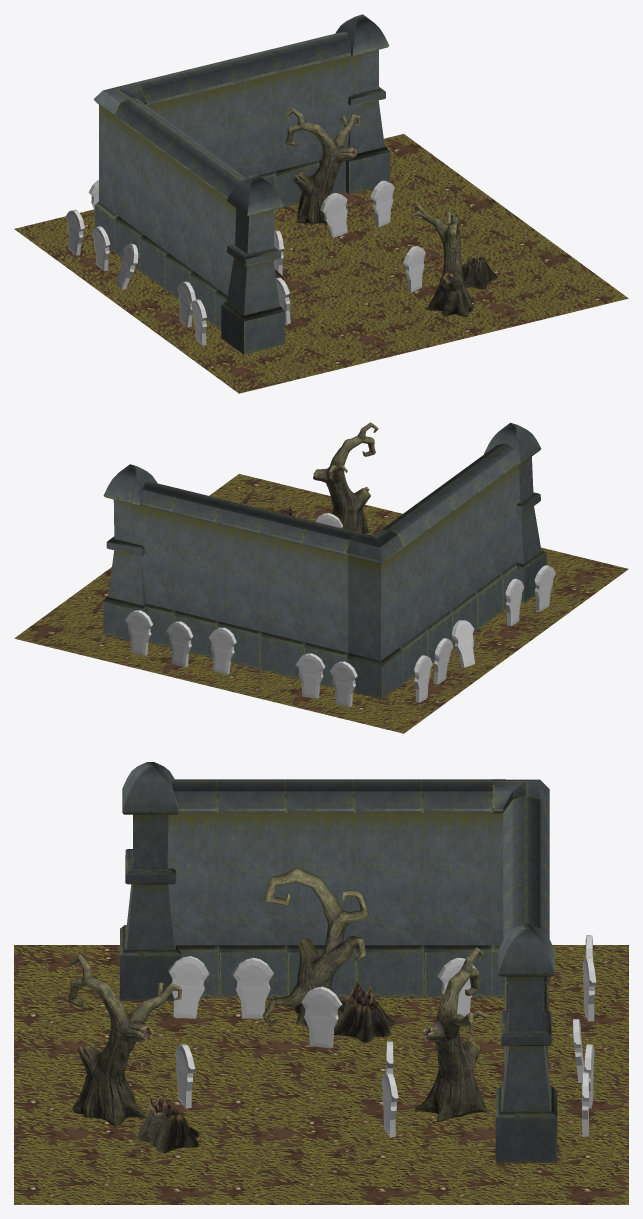
The model's file is Edge_Diorama_3.FBX.
The picture shows the model from 3 angles, top to bottom: view 1: azimuth 30°, elevation 25°; view 2: azimuth 150°, elevation 25°; view 3: azimuth 270°, elevation 25°; orthographic projection. The views are drawn at different scales.
Visible parts, largest first — view 1: Floor027; view 2: Floor027; view 3: Floor027.
Boxes of the visible parts, x1,y1,x2,y2 form: Floor027: (14, 14, 628, 393); Floor027: (14, 422, 628, 733); Floor027: (14, 762, 628, 1204).
Size of the model in its own units: 450 by 450 by 183.
